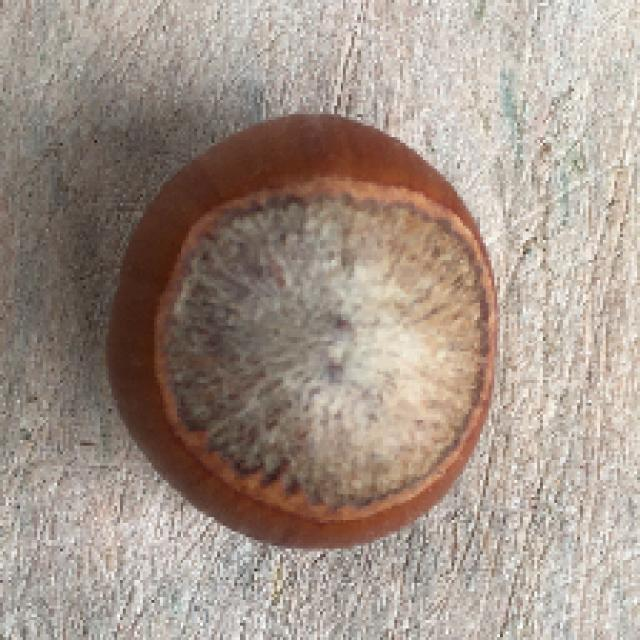qualityHazelnut: (92, 110, 505, 564)
